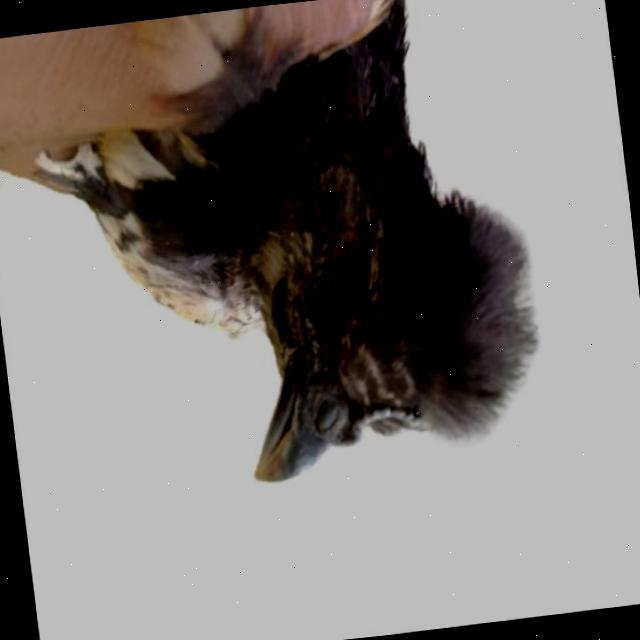Coryza: (287, 212, 403, 359)
